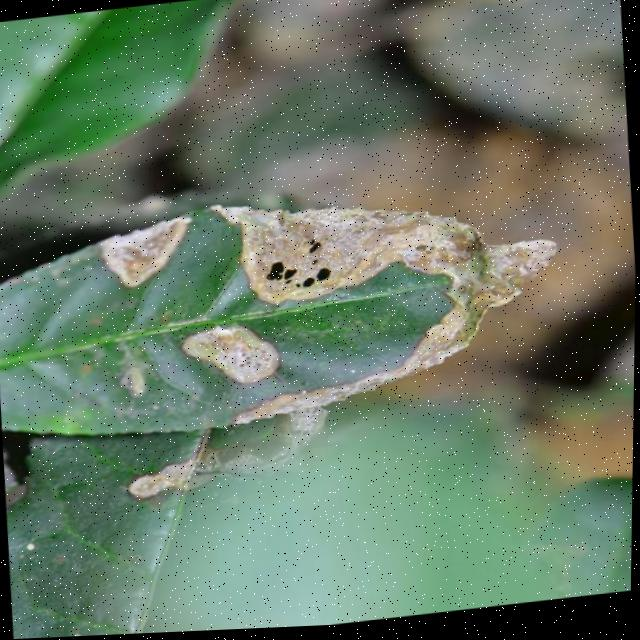Tea cloud leaf blight: (249, 171, 565, 436), (157, 318, 298, 413), (82, 185, 206, 292)
